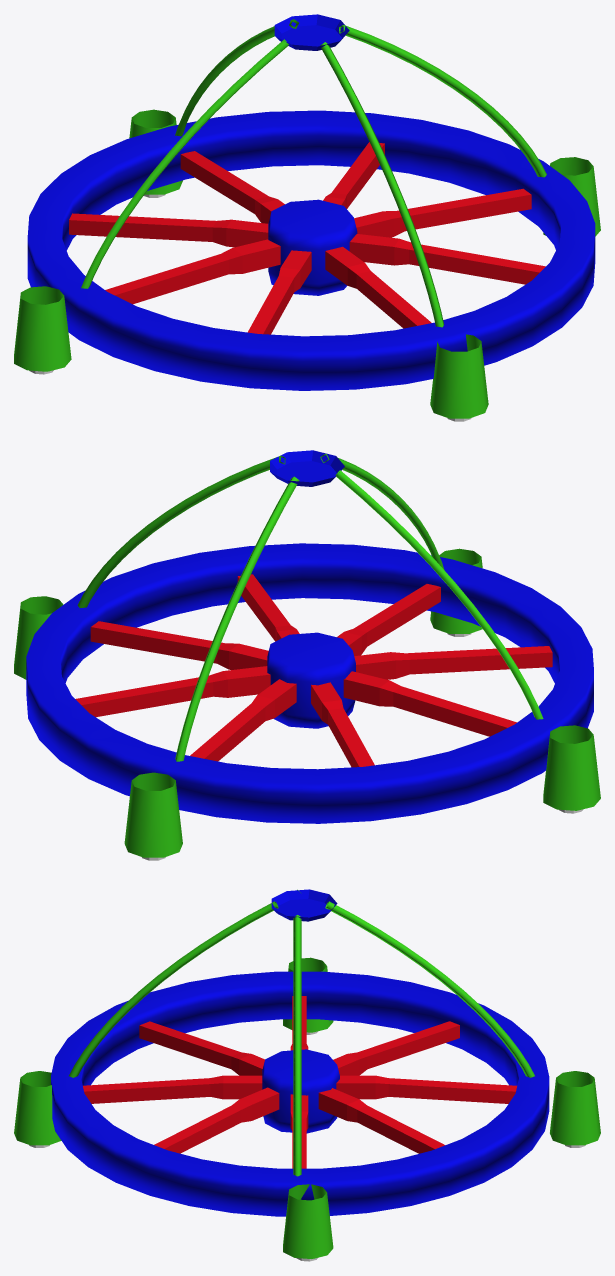
File: Luminaria_triangulate.fbx
The picture shows the model from 3 angles, top to bottom: view 1: azimuth 30°, elevation 25°; view 2: azimuth 150°, elevation 25°; view 3: azimuth 270°, elevation 25°; orthographic projection. The views are drawn at different scales.
Parts seen in each view (by area): view 1: Base, MadeirasBase, Suporte; view 2: Base, MadeirasBase, Suporte; view 3: Base, MadeirasBase, Suporte.
Part boxes in pixels (left/top/right/bottom): Base: left=27, top=14, right=595, bottom=390; MadeirasBase: left=69, top=142, right=545, bottom=334; Suporte: left=14, top=19, right=600, bottom=418; Base: left=26, top=450, right=593, bottom=823; MadeirasBase: left=75, top=574, right=552, bottom=767; Suporte: left=14, top=453, right=600, bottom=857; Base: left=51, top=889, right=549, bottom=1216; MadeirasBase: left=83, top=996, right=516, bottom=1168; Suporte: left=14, top=889, right=600, bottom=1258.
Bounding box in the file's own units: 124 × 56.42 × 124.
